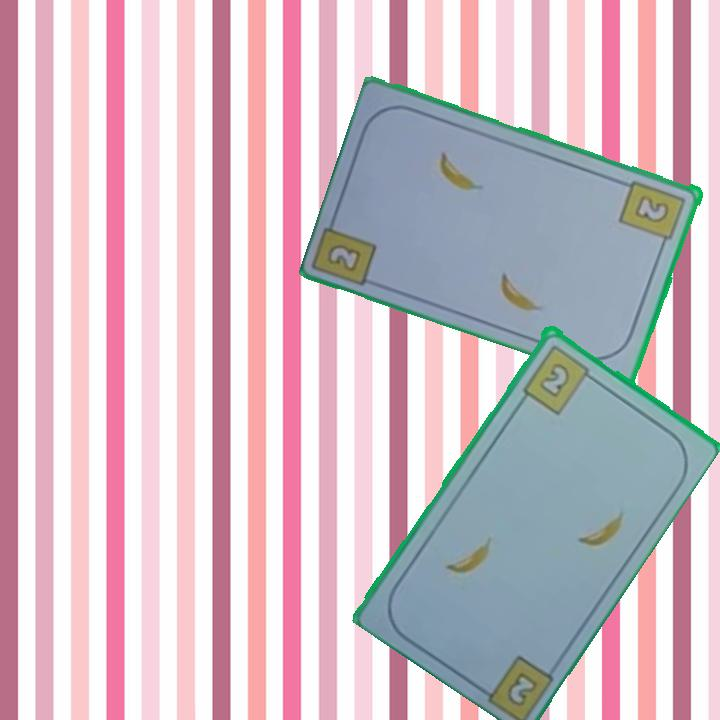2b: (519, 341, 598, 417), (617, 176, 689, 251), (502, 667, 541, 706), (327, 243, 361, 271)
